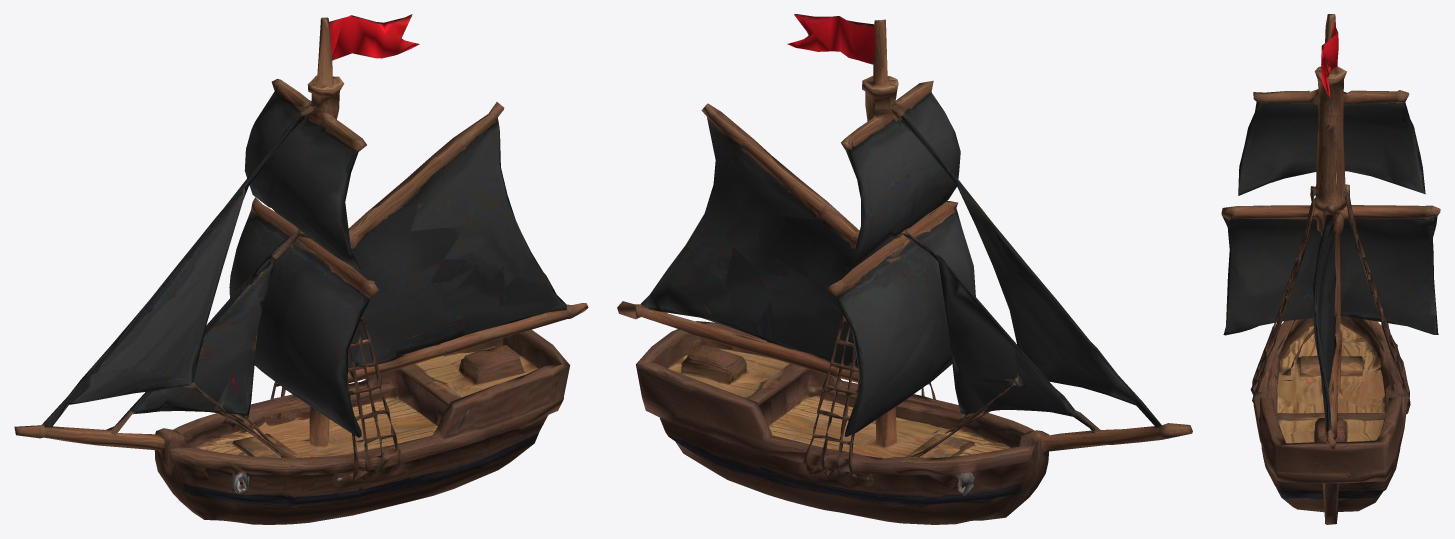
The model's file is m_qar_animated.glb.
3 renders of one model, left to right at view 1: azimuth 30°, elevation 25°; view 2: azimuth 150°, elevation 25°; view 3: azimuth 270°, elevation 25°, orthographic. The views are drawn at different scales.
Parts seen in each view (by area): view 1: m_qar_Living_Scenery; view 2: m_qar_Living_Scenery; view 3: m_qar_Living_Scenery.
Boxes of the visible parts, left/top/right/bottom form: m_qar_Living_Scenery: left=14, top=14, right=588, bottom=524; m_qar_Living_Scenery: left=617, top=14, right=1192, bottom=524; m_qar_Living_Scenery: left=1221, top=14, right=1440, bottom=524.
Size of the model in its own units: 1 by 0.8026 by 0.3685.
Materials: 1 (1 with a texture image).
